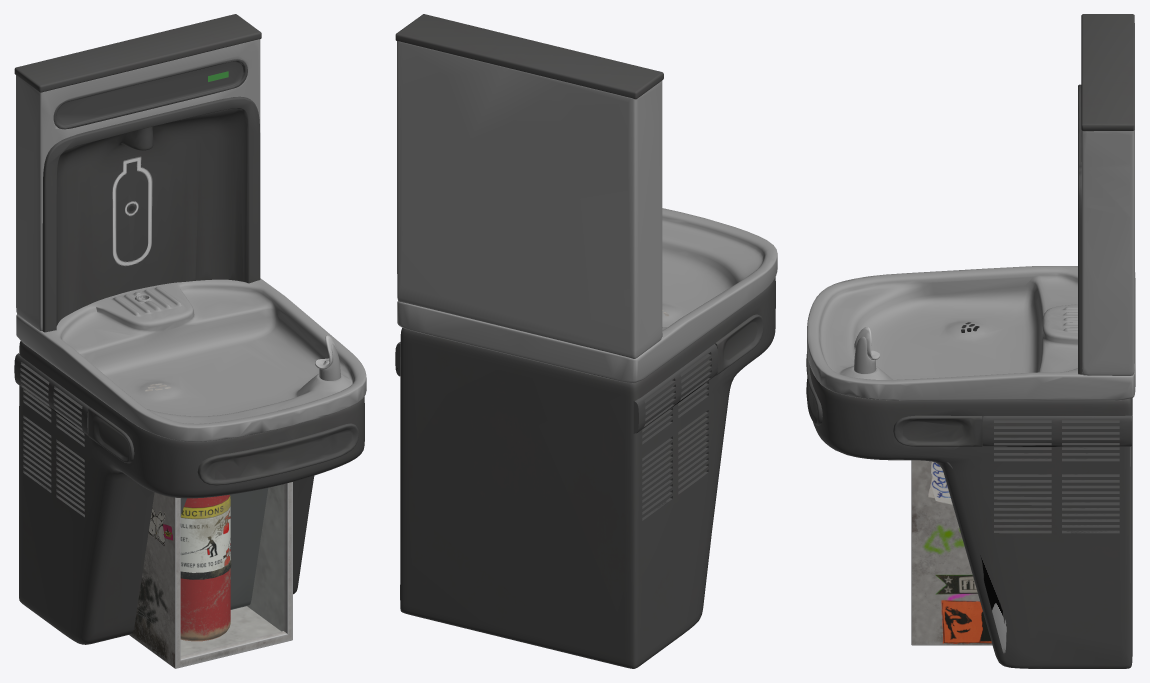
File: fixtures.glb
3 views of the same model, side by side, from view 1: azimuth 30°, elevation 25°; view 2: azimuth 150°, elevation 25°; view 3: azimuth 270°, elevation 25° (orthographic). The views are drawn at different scales.
Visible parts, largest first — view 1: bottle-fountain, fire-extinguisher; view 2: bottle-fountain; view 3: bottle-fountain, fire-extinguisher.
Part boxes in pixels (x1=…): bottle-fountain: x1=14, y1=14, x2=366, y2=644; fire-extinguisher: x1=129, y1=383, x2=292, y2=668; bottle-fountain: x1=395, y1=14, x2=777, y2=668; bottle-fountain: x1=806, y1=14, x2=1135, y2=668; fire-extinguisher: x1=911, y1=460, x2=992, y2=645.
Size of the model in its own units: 0.2302 by 0.524 by 0.2857.
3 materials, 2 textured.
